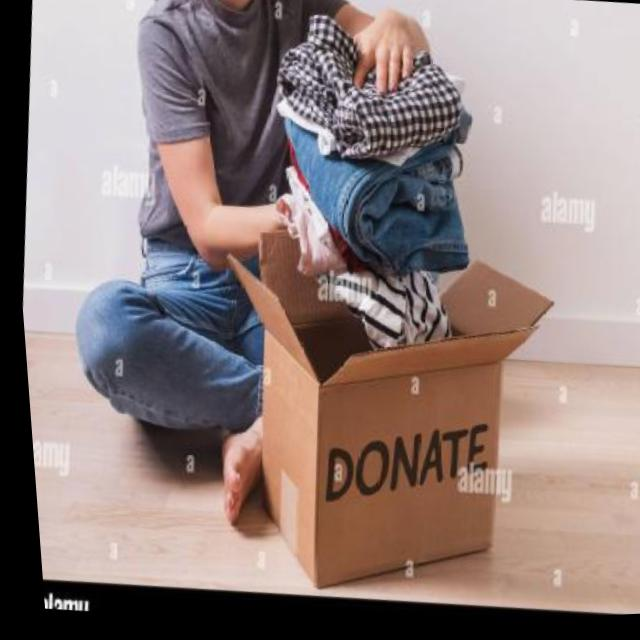box: (183, 204, 575, 621)
